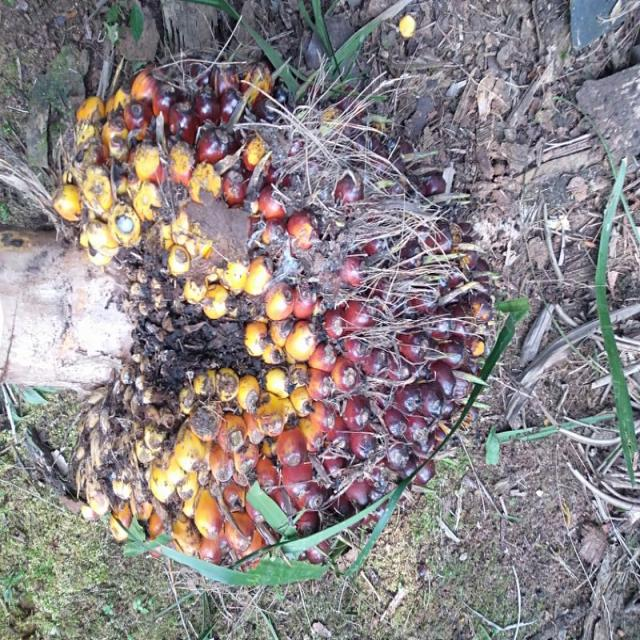fraksi 1: (25, 14, 518, 592)
